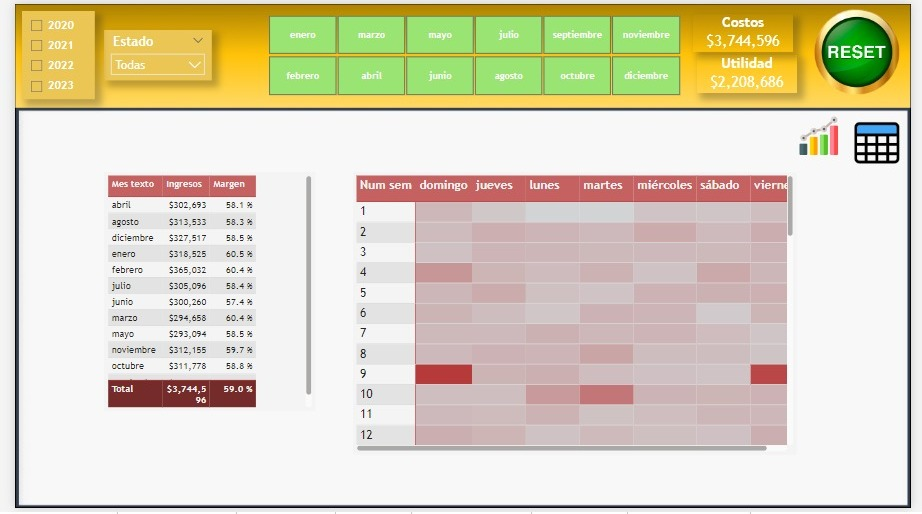

What the dashboard file says about the page in this screenshot:
{"tool":"powerbi","page":{"name":"Drill Down","canvas":[1280,720],"ordinal":9},"visuals":[{"type":"slicer","fields":{"Values":["Ventas.Cliente"]},"box":[126.5,37.5,154.3,72.3],"z":0},{"type":"slicer","fields":{"Values":["calendario.fecha .Variación.Jerarquía de fechas.Mes"]},"box":[337.8,9.7,636.6,126.5],"z":1000},{"type":"card","title":"Costos","fields":{"Values":["Sum(Ventas.Ingresos)"]},"box":[968.8,13.9,143.2,54.2],"z":2000},{"type":"slicer","fields":{"Values":["calendario.fecha .Variación.Jerarquía de fechas.Año"]},"box":[9.7,9.7,104.2,126.5],"z":3000},{"type":"image","box":[1137,0,130.7,136.2],"z":4000},{"type":"card","title":"Utilidad","fields":{"Values":["Sum(Ventas.utilidad)"]},"box":[974.6,72.8,142.7,54.2],"z":5000},{"type":"columnChart","fields":{"Category":["Ventas.Categoria Producto","Ventas.Nombre Producto","Ventas.Cliente"],"Y":["Medidas DAX.Ingresos"]},"box":[554.6,443.4,713.1,265.5],"z":6000},{"type":"tableEx","fields":{"Values":["Ventas.Categoria Producto","Ventas.Nombre Producto","Medidas DAX.Ingresos"]},"box":[0,159.8,549,522.6],"z":7000},{"type":"columnChart","fields":{"Category":["Ventas.Cliente"],"Y":["Medidas DAX.Ingresos"]},"box":[549,159.8,718.6,261.3],"z":8000}]}

Visuals, with their boxes in screenshot pixels (x1, y1, x2, y2), scaled from the page's 1280x720 canvas onto the 922x514 screenshot:
slicer - Ventas.Cliente: {"x1": 91, "y1": 27, "x2": 202, "y2": 78}
slicer - calendario.fecha .Variación.Jerarquía de fechas.Mes: {"x1": 243, "y1": 7, "x2": 702, "y2": 97}
"Costos" card: {"x1": 698, "y1": 10, "x2": 801, "y2": 49}
slicer - calendario.fecha .Variación.Jerarquía de fechas.Año: {"x1": 7, "y1": 7, "x2": 82, "y2": 97}
image: {"x1": 819, "y1": 0, "x2": 913, "y2": 97}
"Utilidad" card: {"x1": 702, "y1": 52, "x2": 805, "y2": 91}
columnChart - Ventas.Categoria Producto x Ventas.Nombre Producto: {"x1": 399, "y1": 317, "x2": 913, "y2": 506}
tableEx - Ventas.Categoria Producto x Ventas.Nombre Producto: {"x1": 0, "y1": 114, "x2": 395, "y2": 487}
columnChart - Ventas.Cliente x Medidas DAX.Ingresos: {"x1": 395, "y1": 114, "x2": 913, "y2": 301}
